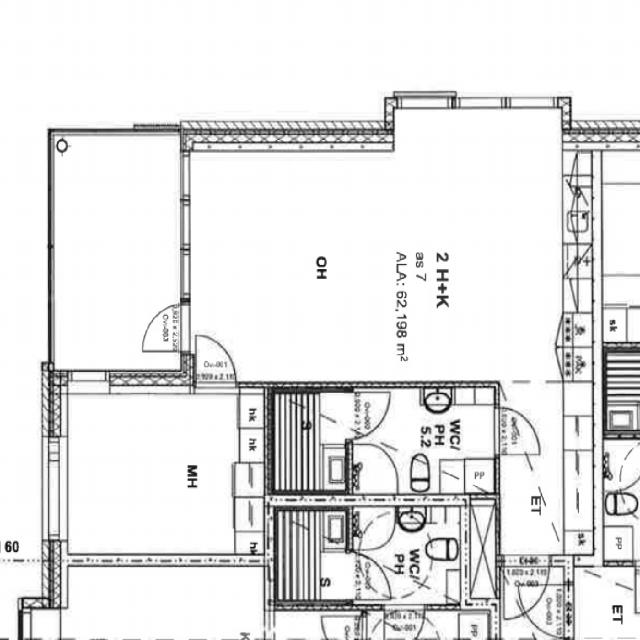door: (504, 554, 549, 620), (139, 304, 190, 351), (197, 336, 236, 394), (494, 408, 540, 454), (345, 393, 392, 438)
